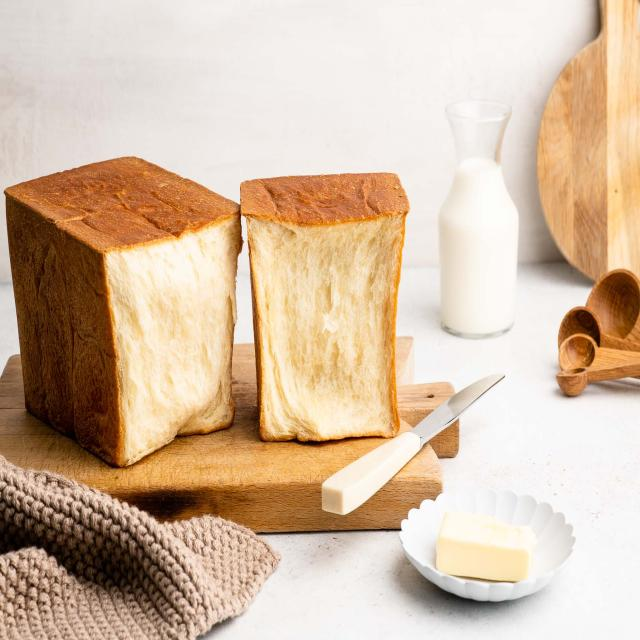Bread: (0, 157, 248, 470), (233, 156, 404, 454)
Butter: (431, 500, 542, 589)
Milk: (425, 78, 534, 361)
